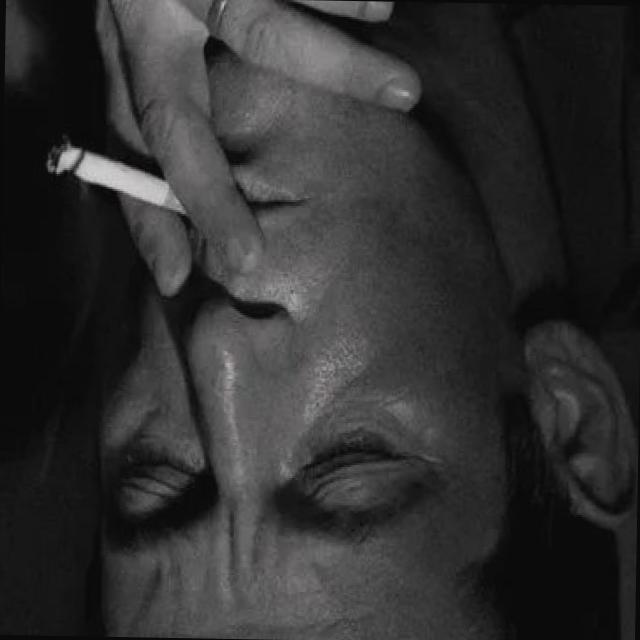cigarette: (45, 137, 202, 222)
